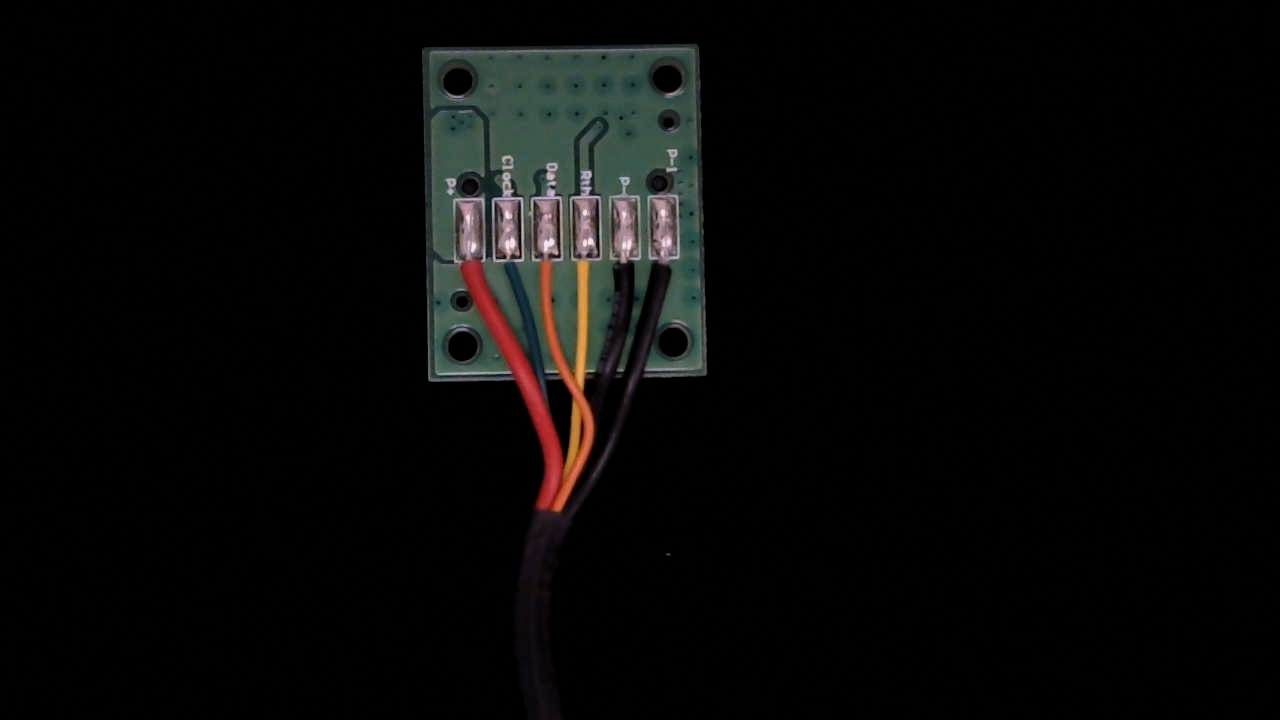Black: (610, 243, 639, 307)
Black1: (650, 244, 678, 308)
Green: (493, 239, 524, 305)
Orange: (533, 243, 562, 308)
Red: (455, 241, 484, 305)
Yellow: (573, 242, 599, 311)
